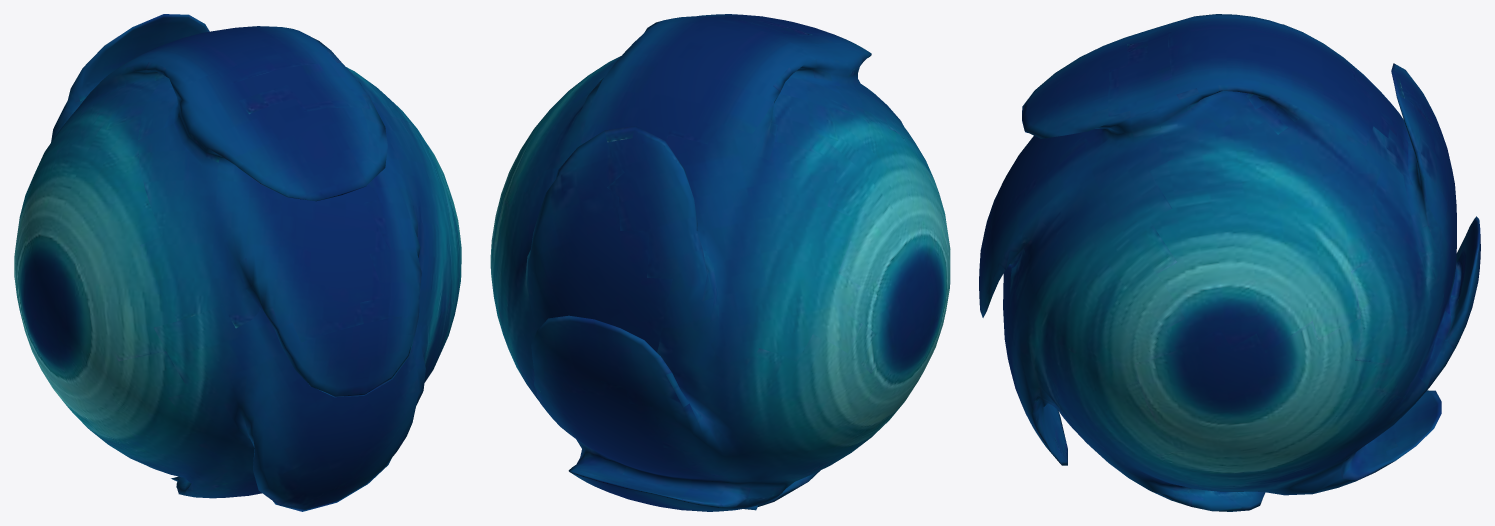
File: Teleporter.fbx
3 views of the same model, side by side, from view 1: azimuth 30°, elevation 25°; view 2: azimuth 150°, elevation 25°; view 3: azimuth 270°, elevation 25° (orthographic). The views are drawn at different scales.
Visible parts, largest first — view 1: tripo_node_f2a5d60f; view 2: tripo_node_f2a5d60f; view 3: tripo_node_f2a5d60f.
Boxes of the visible parts, x1=… form: tripo_node_f2a5d60f: x1=14, y1=14, x2=461, y2=511; tripo_node_f2a5d60f: x1=490, y1=14, x2=950, y2=511; tripo_node_f2a5d60f: x1=979, y1=14, x2=1480, y2=511.
Bounding box in the file's own units: 91.54 × 99.58 × 99.96.
Materials: 1 (1 with a texture image).
